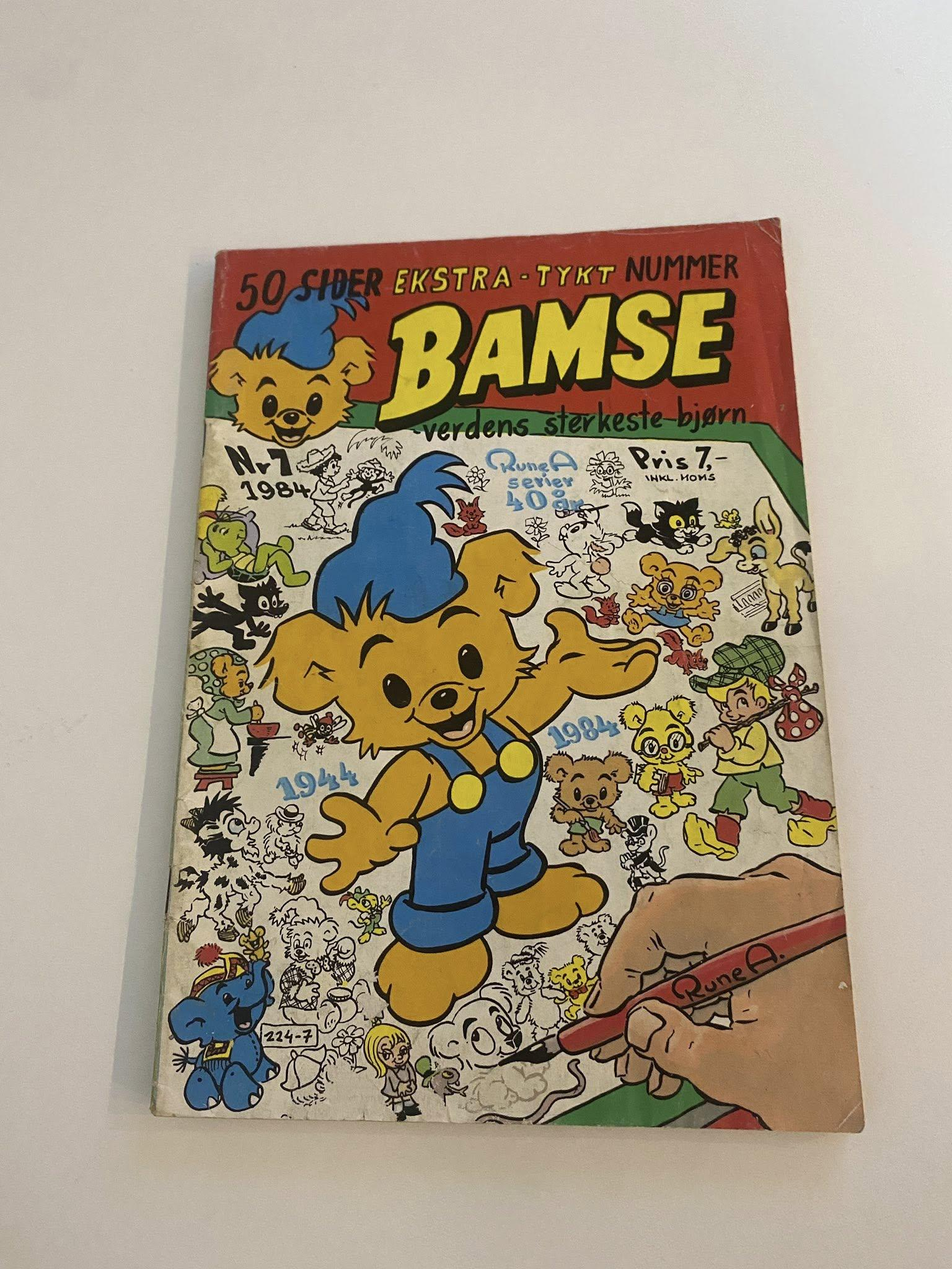comic: (154, 207, 882, 1131)
